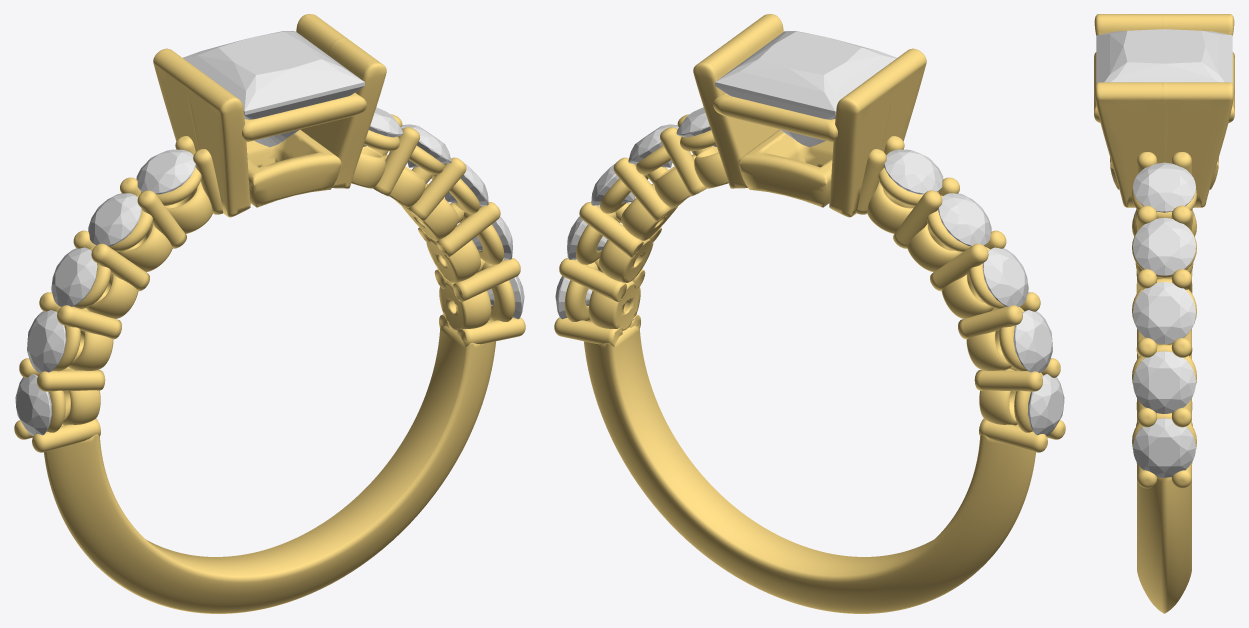
File: diamond-princess-yellowgold-halfmoonbezel-knifeedge-11stone.glb
The picture shows the model from 3 angles, left to right: view 1: azimuth 30°, elevation 25°; view 2: azimuth 150°, elevation 25°; view 3: azimuth 270°, elevation 25°; orthographic projection. The views are drawn at different scales.
Visible parts, largest first — view 1: metal, stone, side.003, side.004, side.005, side.002, side, side.007; view 2: metal, stone, side.003, side.004, side.005, side.002, side, side.007; view 3: metal, stone, side.009, side.008, side.001, side.007, side.006.
Boxes of the visible parts, <box> form: metal: <box>14,14,525,613</box>; stone: <box>183,31,364,147</box>; side.003: <box>51,247,97,306</box>; side.004: <box>88,193,141,246</box>; side.005: <box>136,149,195,194</box>; side.002: <box>27,310,66,372</box>; side: <box>15,374,52,436</box>; side.007: <box>401,124,451,167</box>; metal: <box>554,14,1065,613</box>; stone: <box>715,31,896,147</box>; side.003: <box>982,247,1028,306</box>; side.004: <box>938,193,991,246</box>; side.005: <box>884,149,943,194</box>; side.002: <box>1013,310,1052,372</box>; side: <box>1027,374,1064,436</box>; side.007: <box>628,124,678,167</box>; metal: <box>1094,14,1234,613</box>; stone: <box>1096,29,1232,82</box>; side.009: <box>1133,351,1195,413</box>; side.008: <box>1133,282,1195,344</box>; side.001: <box>1133,418,1195,477</box>; side.007: <box>1133,218,1195,275</box>; side.006: <box>1133,162,1195,212</box>.
Bounding box in the file's own units: 22.23 × 23.85 × 5.6.
